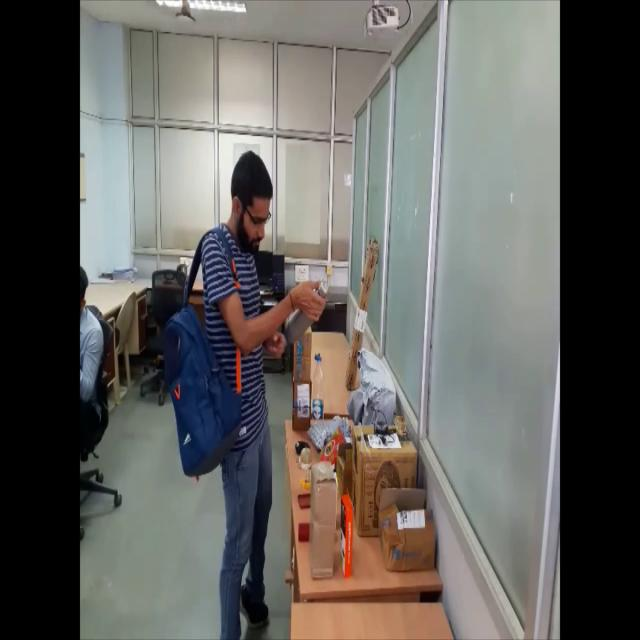normal: (165, 136, 329, 640)
